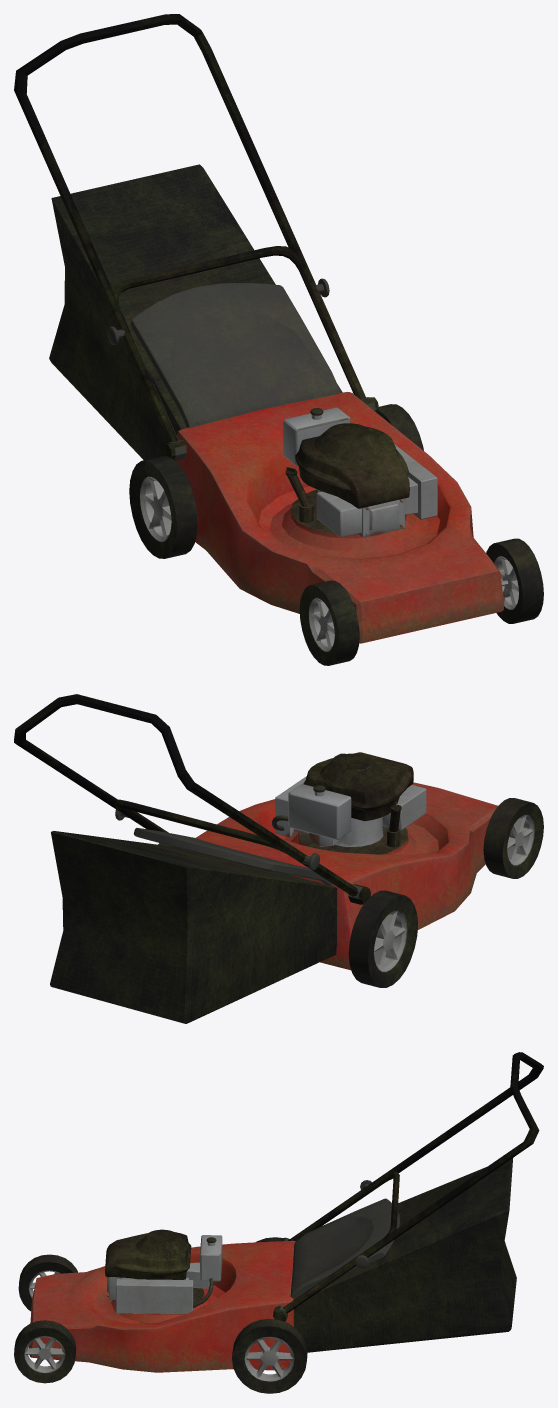
The model's file is Low_Poly_Mower.fbx.
3 views of the same model, one above another, from view 1: azimuth 30°, elevation 25°; view 2: azimuth 150°, elevation 25°; view 3: azimuth 270°, elevation 25° (orthographic). The views are drawn at different scales.
Parts seen in each view (by area): view 1: 10291_Gas_Powered_Lawn_Mower_v1_iterations-2.001; view 2: 10291_Gas_Powered_Lawn_Mower_v1_iterations-2.001; view 3: 10291_Gas_Powered_Lawn_Mower_v1_iterations-2.001.
Boxes of the visible parts, left/top/right/bottom form: 10291_Gas_Powered_Lawn_Mower_v1_iterations-2.001: left=14, top=14, right=543, bottom=665; 10291_Gas_Powered_Lawn_Mower_v1_iterations-2.001: left=14, top=694, right=543, bottom=1023; 10291_Gas_Powered_Lawn_Mower_v1_iterations-2.001: left=14, top=1052, right=543, bottom=1393.
Bounding box in the file's own units: 65.07 × 95.6 × 162.
Materials: 1 (1 with a texture image).
